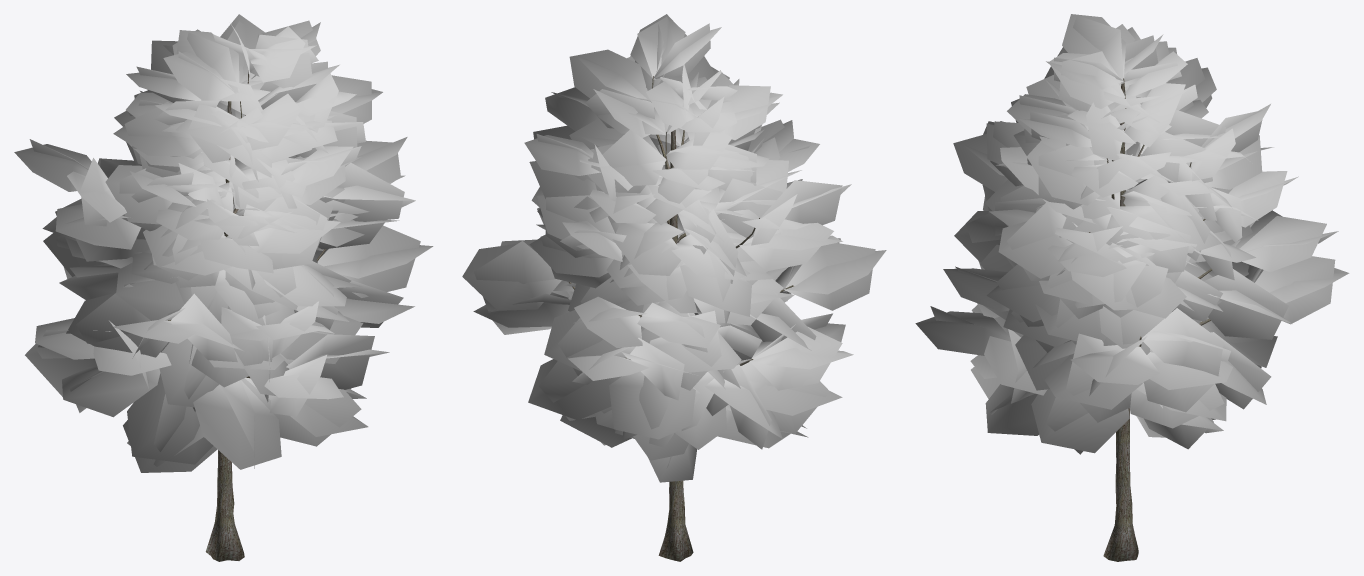
The model's file is alnus.fbx.
The picture shows the model from 3 angles, left to right: view 1: azimuth 30°, elevation 25°; view 2: azimuth 150°, elevation 25°; view 3: azimuth 270°, elevation 25°; orthographic projection. The views are drawn at different scales.
Parts seen in each view (by area): view 1: alnus_LOD0; view 2: alnus_LOD0; view 3: alnus_LOD0.
Boxes of the visible parts, bbox=[...] form: alnus_LOD0: bbox=[14, 14, 433, 561]; alnus_LOD0: bbox=[462, 14, 886, 561]; alnus_LOD0: bbox=[915, 14, 1349, 561].
Size of what is drawn, in the model's own units: 9.6 by 12.94 by 9.55.
